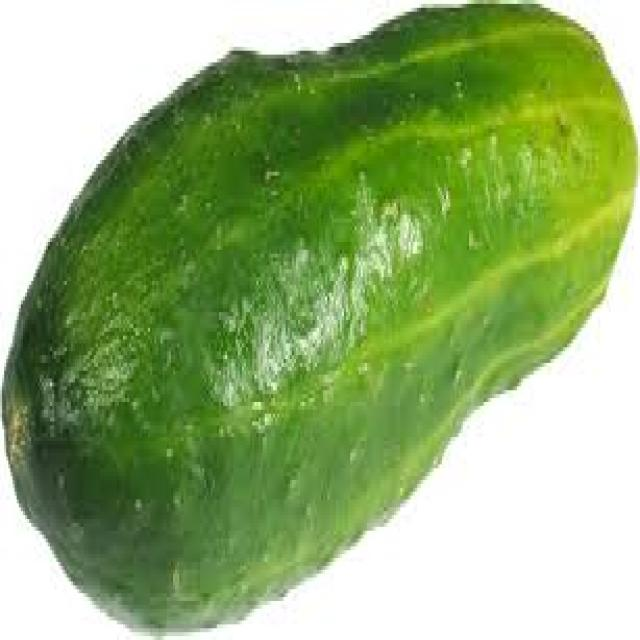cucumber: (0, 0, 638, 632)
